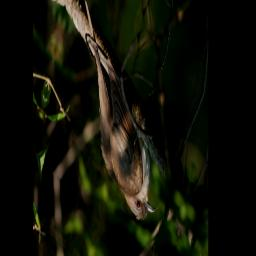Cuckoo: (46, 0, 185, 237)
